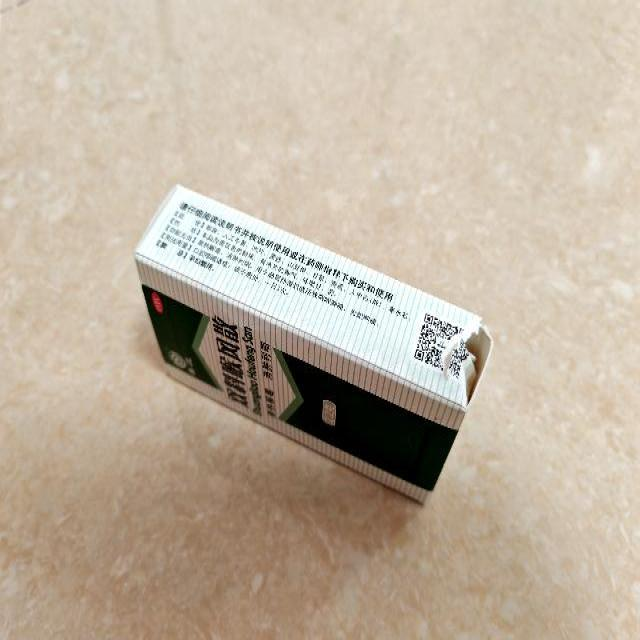box: (132, 182, 492, 509)
